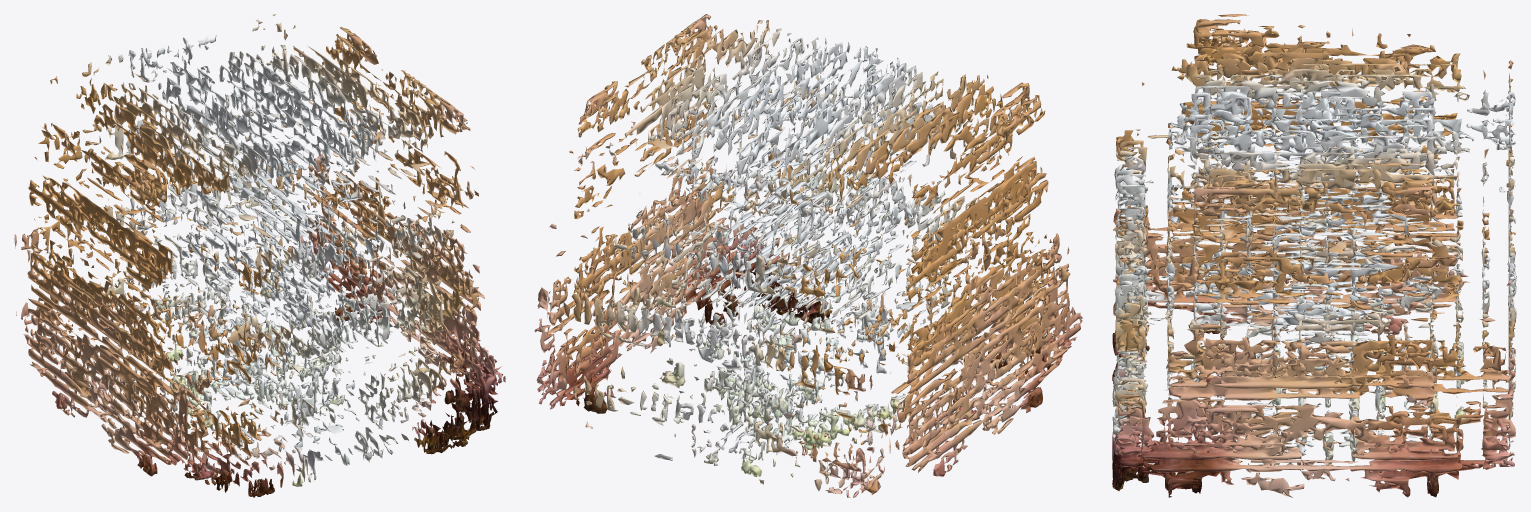
File: cottage_small.glb
3 renders of one model, left to right at view 1: azimuth 30°, elevation 25°; view 2: azimuth 150°, elevation 25°; view 3: azimuth 270°, elevation 25°, orthographic. The views are drawn at different scales.
Parts seen in each view (by area): view 1: world; view 2: world; view 3: world.
Part boxes in pixels (x1,y1,x2,y2): world: [14, 14, 505, 497]; world: [534, 14, 1082, 497]; world: [1112, 14, 1516, 497].
Bounding box in the file's own units: 0.984 × 0.908 × 0.9639.
1 material, 1 textured.
